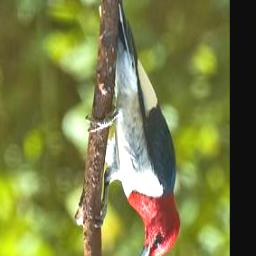Woodpecker: (87, 0, 182, 256)
